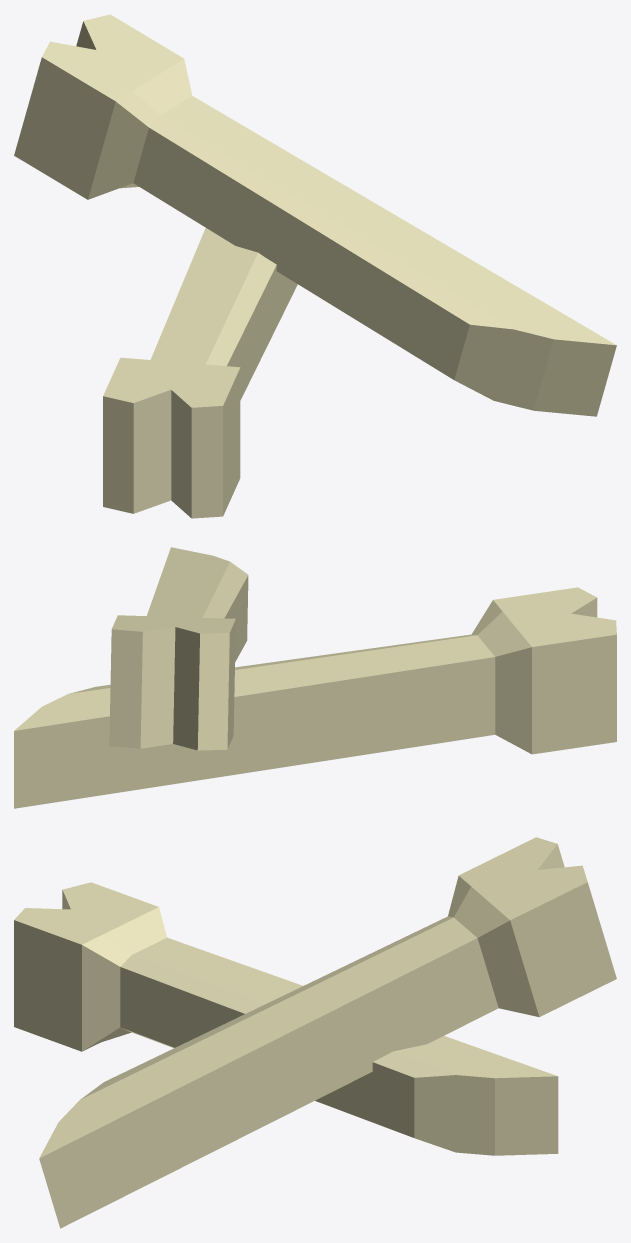
File: Bones.fbx
3 views of the same model, one above another, from view 1: azimuth 30°, elevation 25°; view 2: azimuth 150°, elevation 25°; view 3: azimuth 270°, elevation 25° (orthographic). The views are drawn at different scales.
Parts seen in each view (by area): view 1: pCube49; view 2: pCube49; view 3: pCube49.
Part boxes in pixels (box(x1,y1,x2,y2)): pCube49: box(14, 14, 616, 518); pCube49: box(14, 547, 616, 808); pCube49: box(14, 837, 616, 1228).
Bounding box in the file's own units: 127 × 64.1 × 141.
